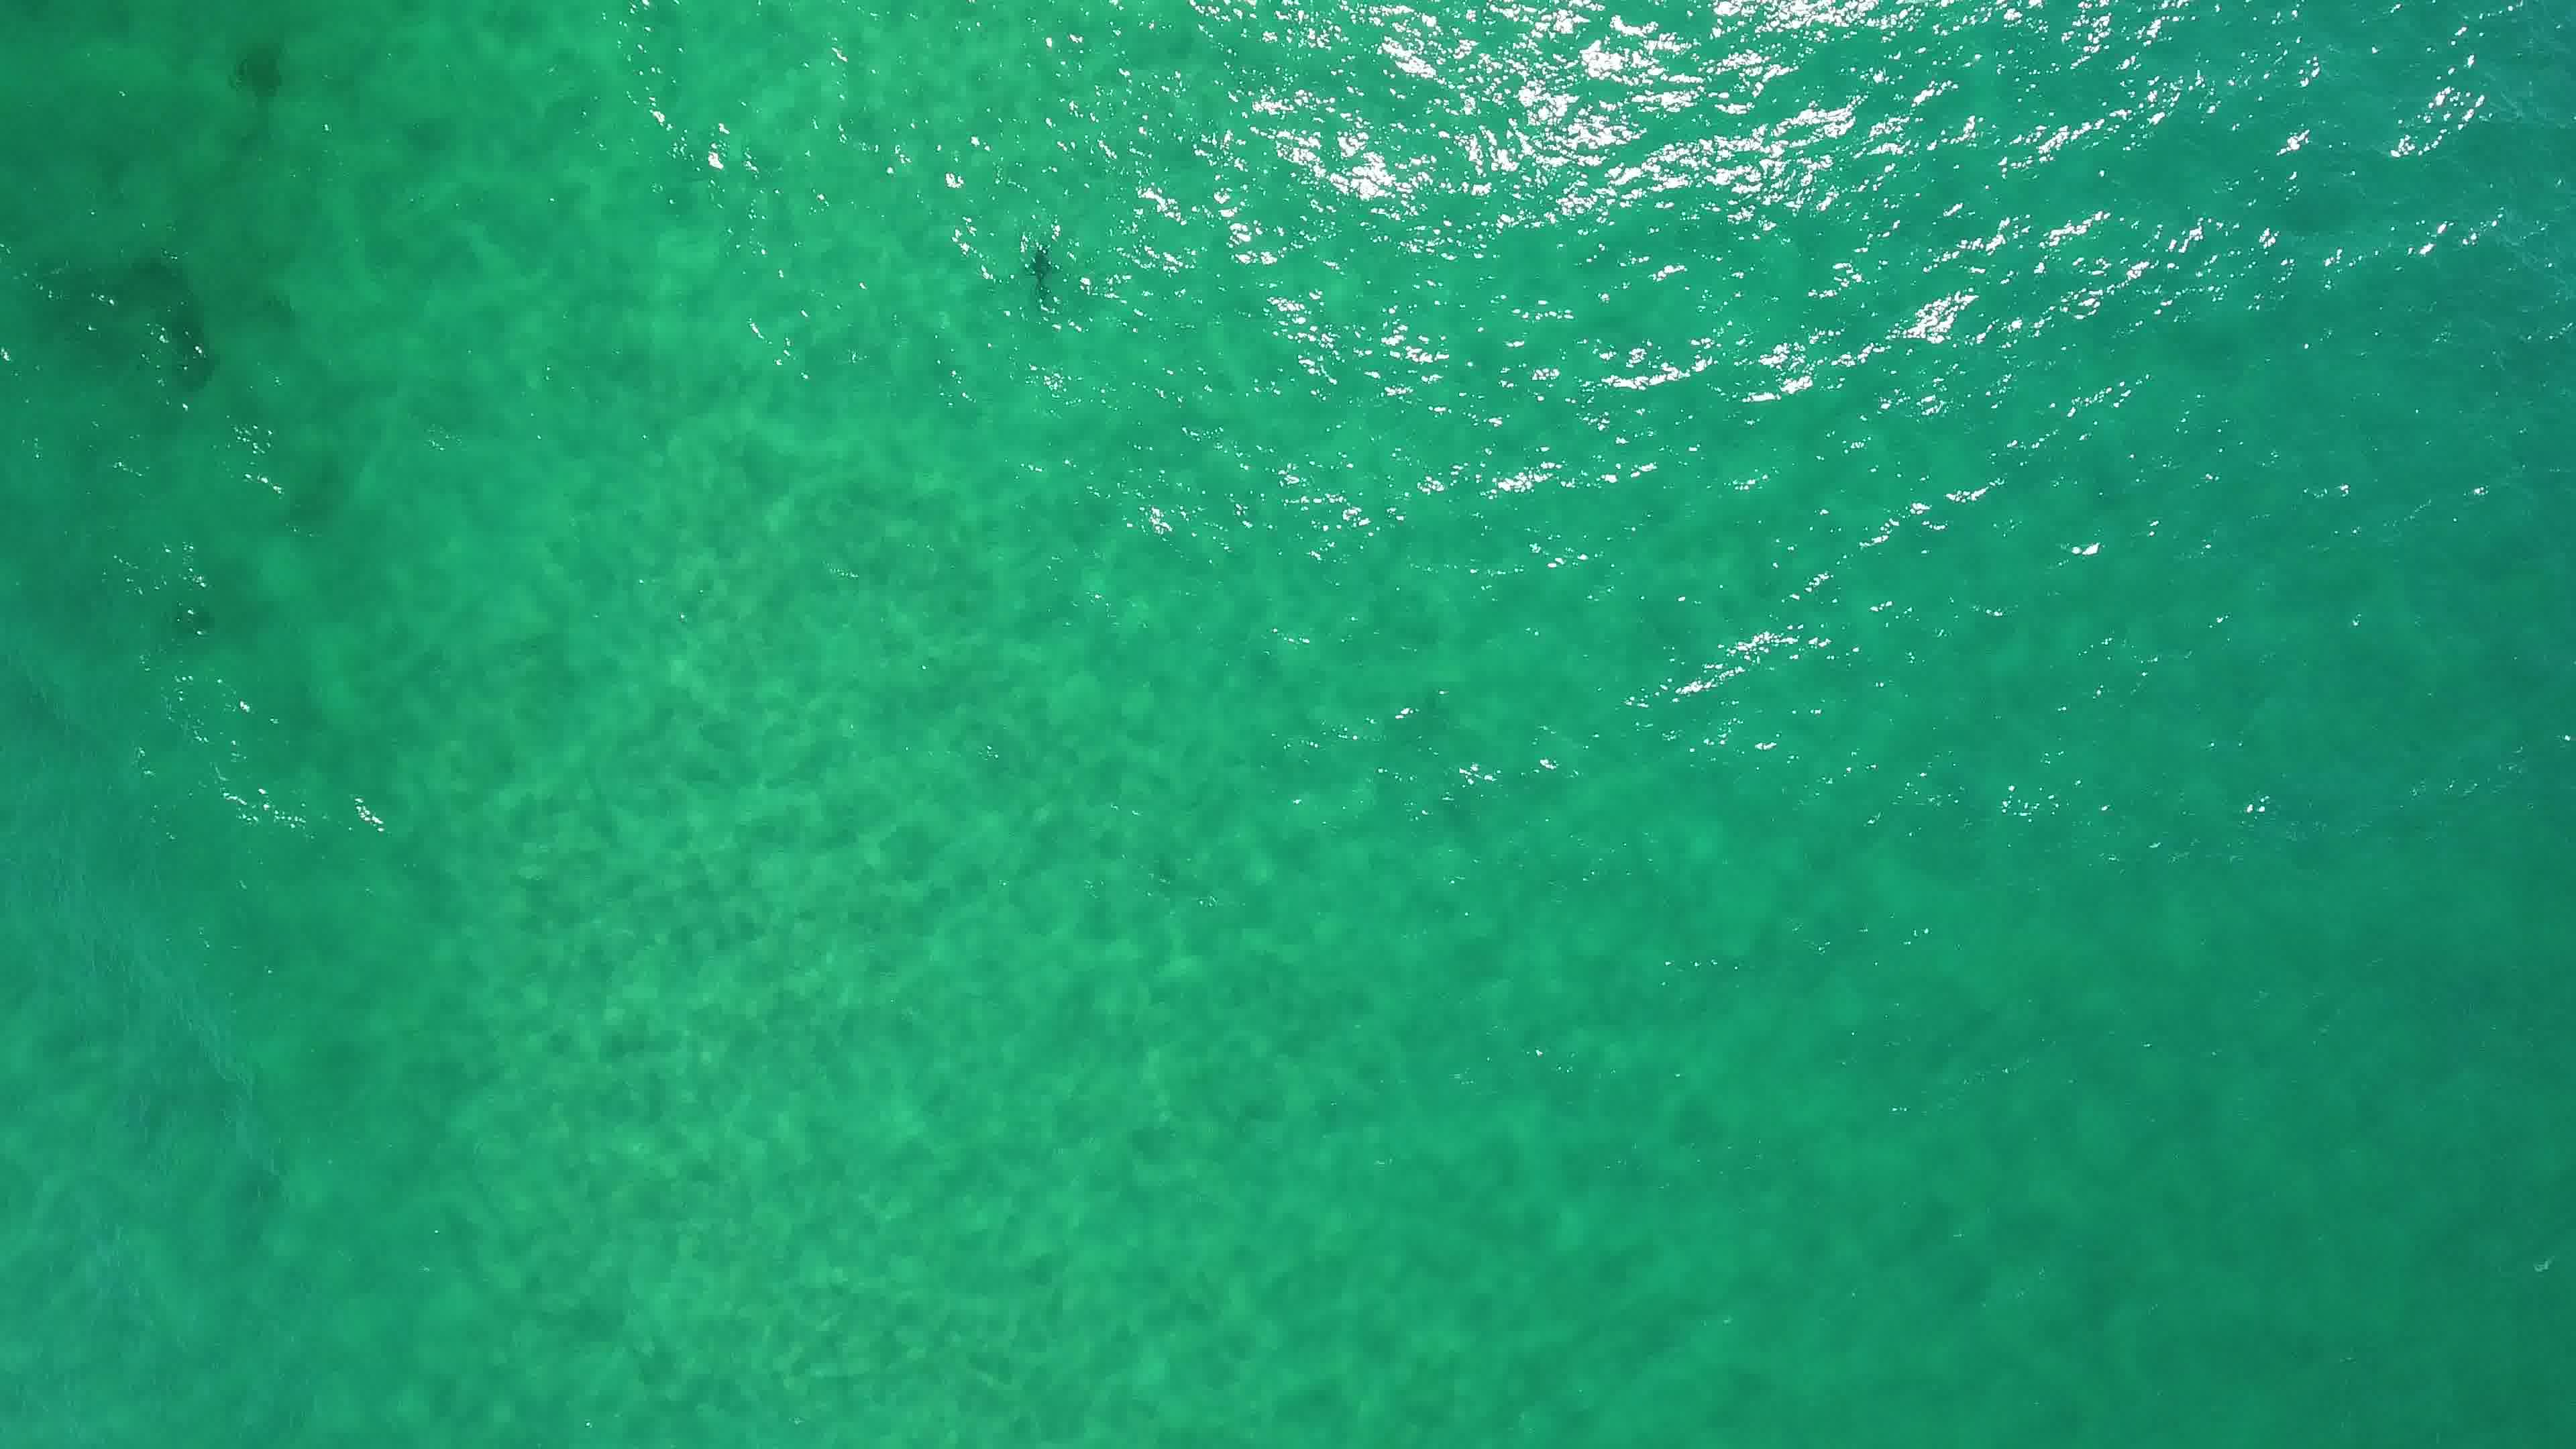shark: (1019, 239, 1065, 310)
